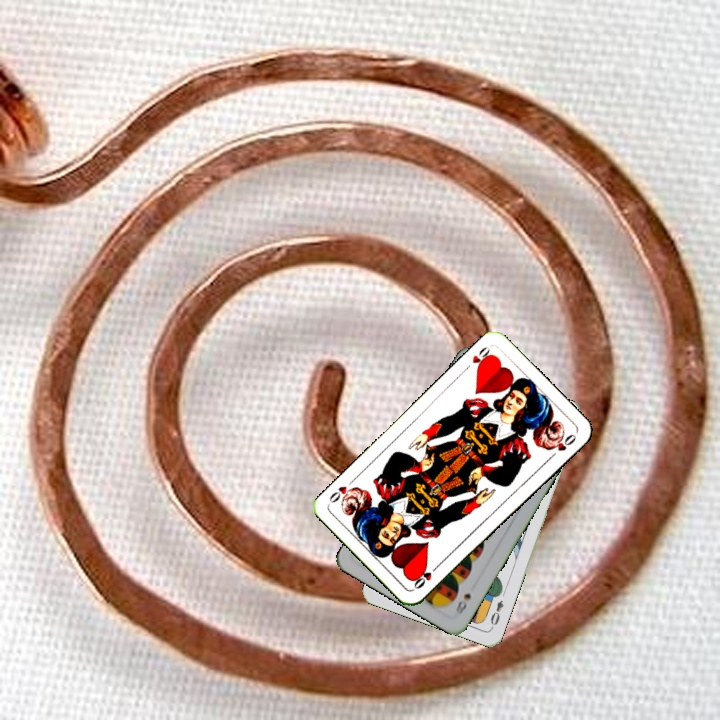EO: (486, 596, 506, 631)
HO: (460, 343, 495, 374), (410, 560, 442, 591)
S8: (451, 589, 474, 617)
